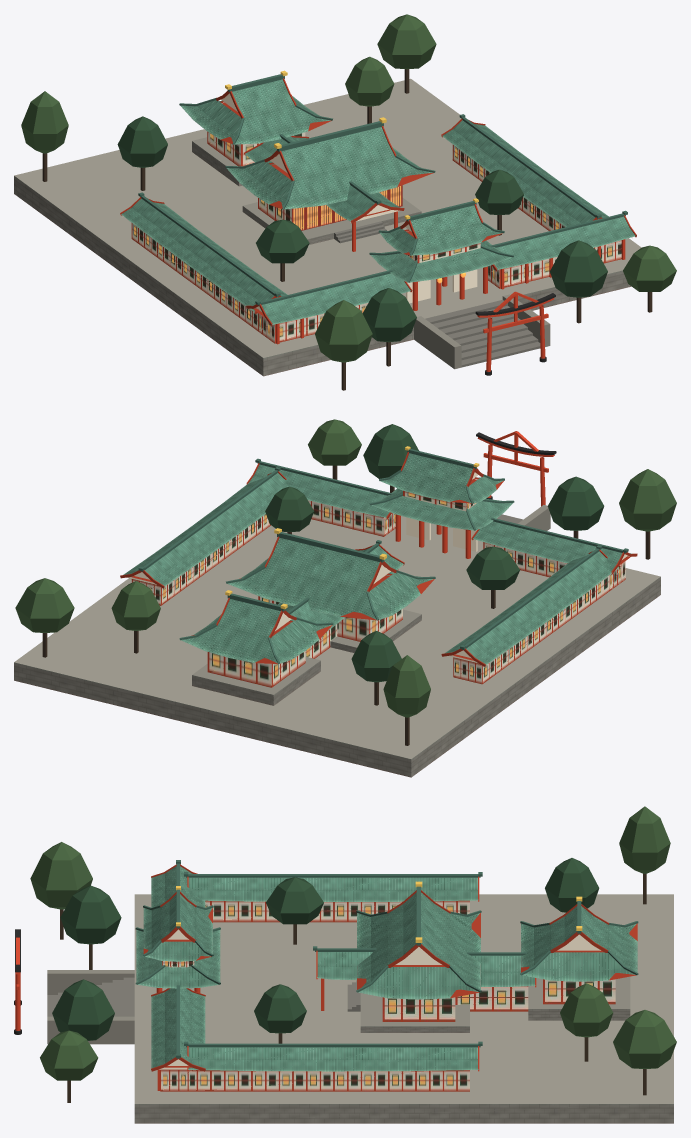
The model's file is hie_shrine.glb.
3 renders of one model, top to bottom at view 1: azimuth 30°, elevation 25°; view 2: azimuth 150°, elevation 25°; view 3: azimuth 270°, elevation 25°, orthographic. The views are drawn at different scales.
Parts seen in each view (by area): view 1: hie_shrine; view 2: hie_shrine; view 3: hie_shrine.
Boxes of the visible parts, x1,y1,x2,y2 form: hie_shrine: (14, 14, 676, 390); hie_shrine: (14, 419, 676, 777); hie_shrine: (14, 806, 676, 1123).
Bounding box in the file's own units: 68.87 × 17.77 × 90.95.
2 materials, 2 textured.
